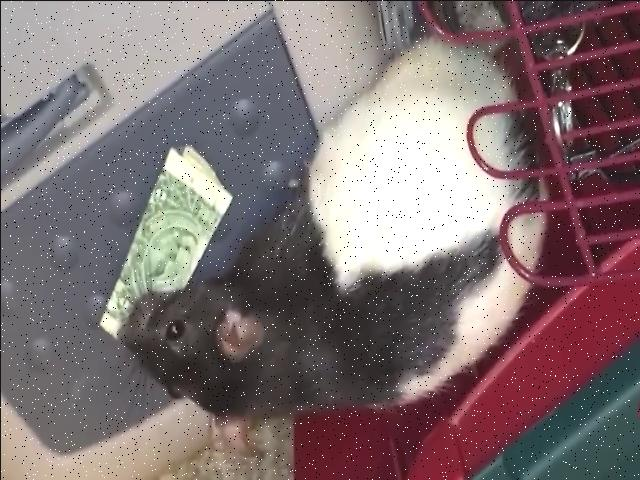Tikus: (119, 36, 551, 460)
